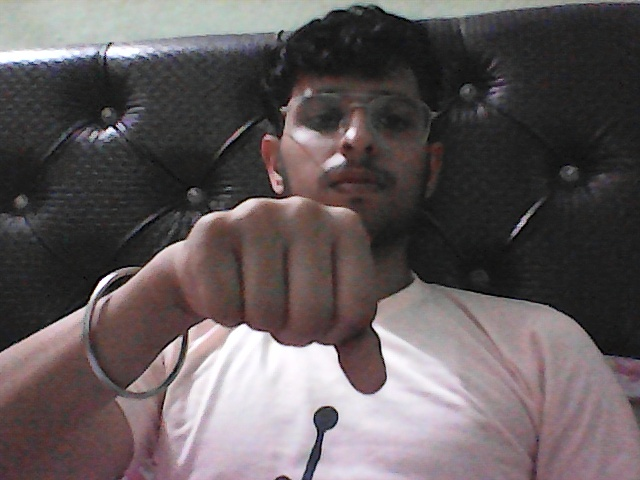yes: (144, 175, 406, 402)
